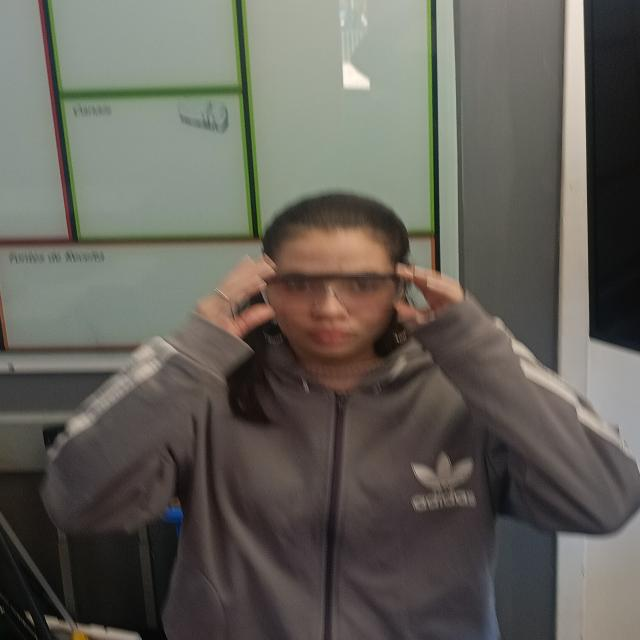oculos-epi: (262, 273, 407, 322)
